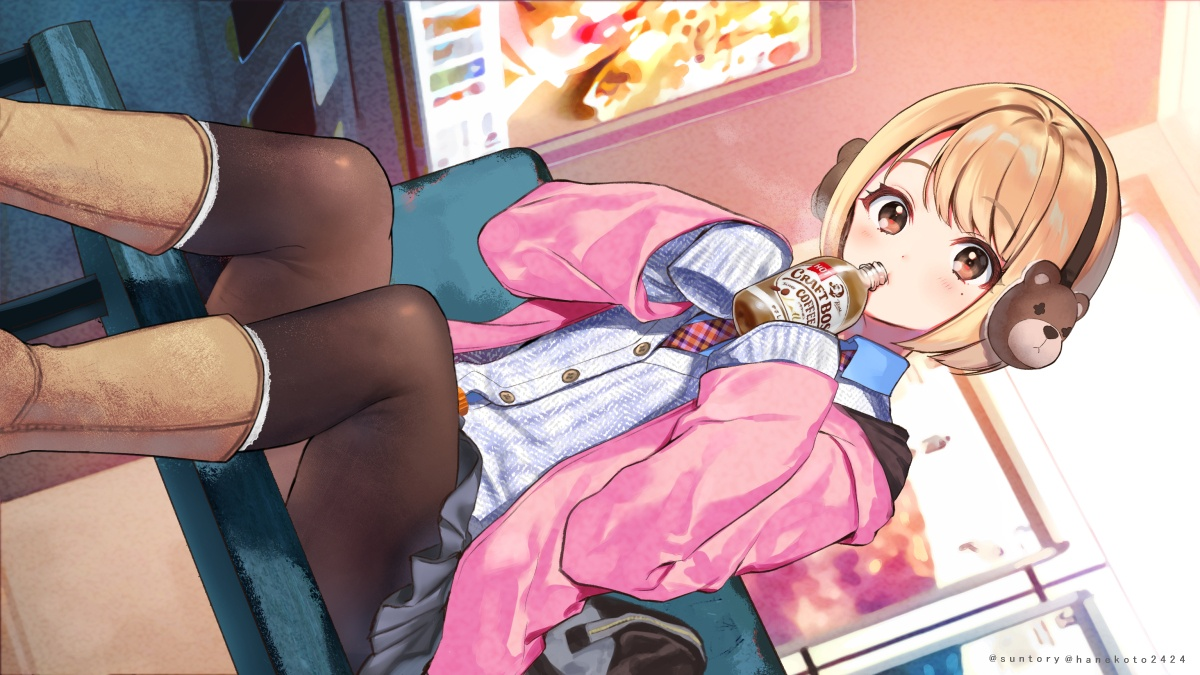纸片人正脸: (813, 79, 1126, 365)
